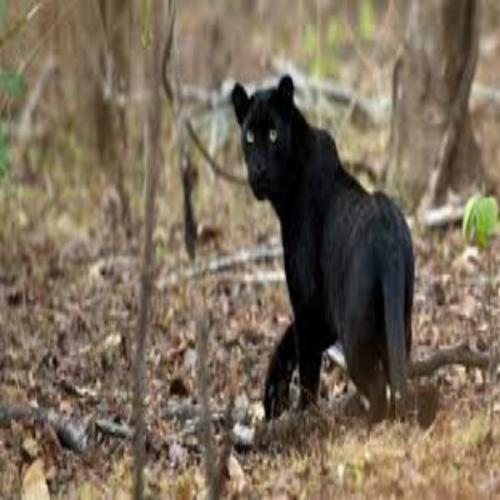panther-endangered: (231, 75, 417, 424)
